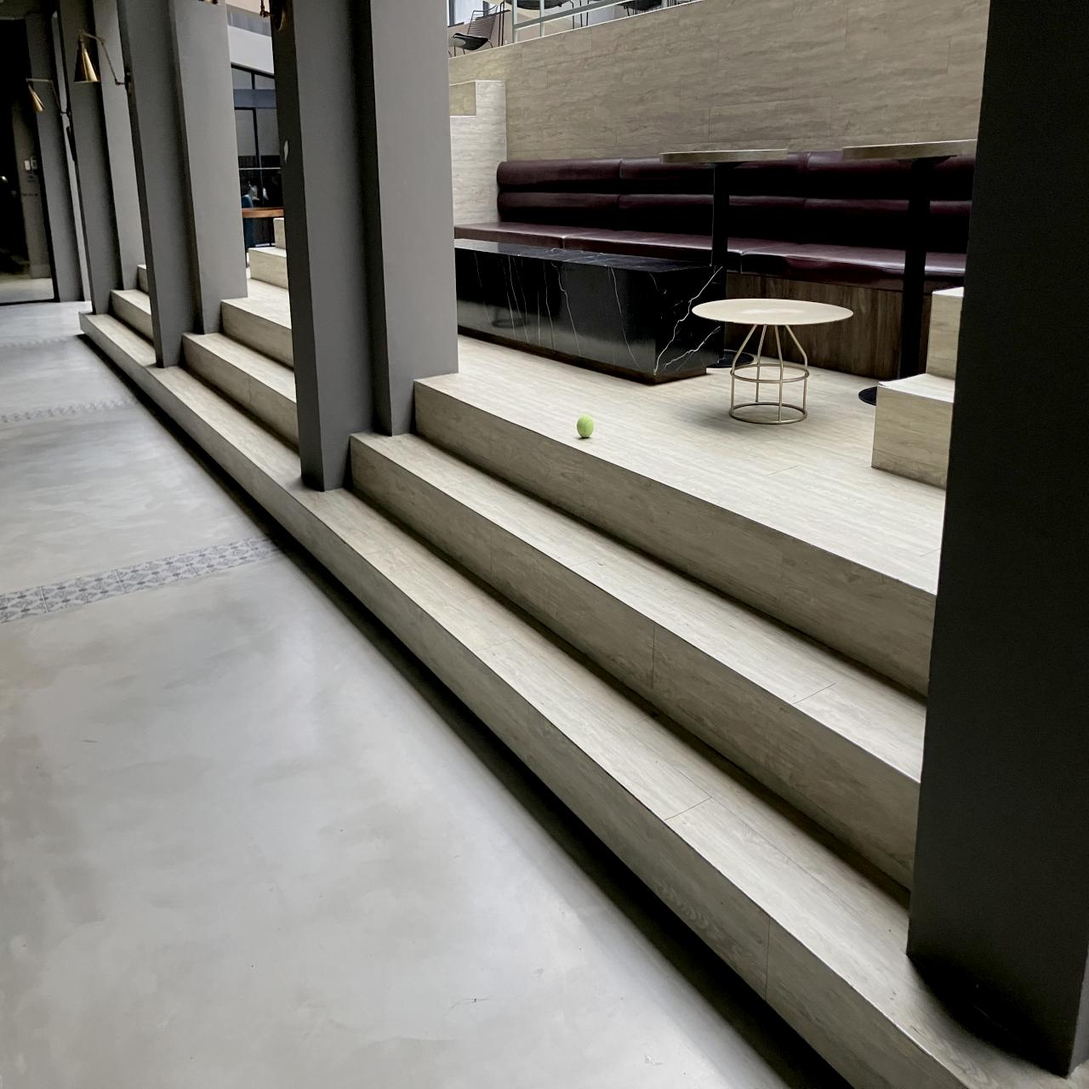tennisball: (577, 414, 594, 438)
